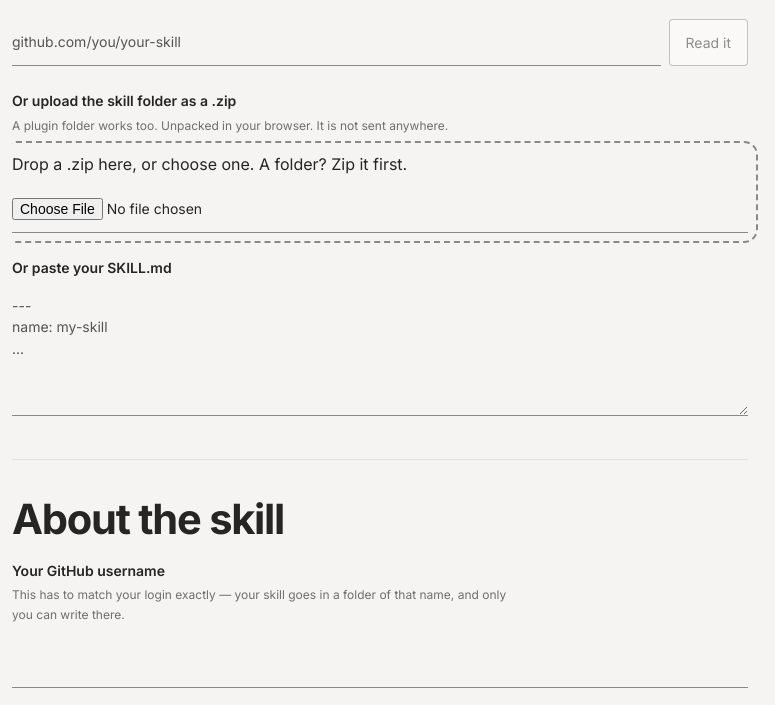
Submit — pasting a skill you already have › says what is wrong rather than silently ignoring it
The width and height of the screenshot is (775, 705).
(page scrolled)
Click the text box labelled "Or paste your SKILL.md".
click(380, 349)  # box [12,282,748,416]
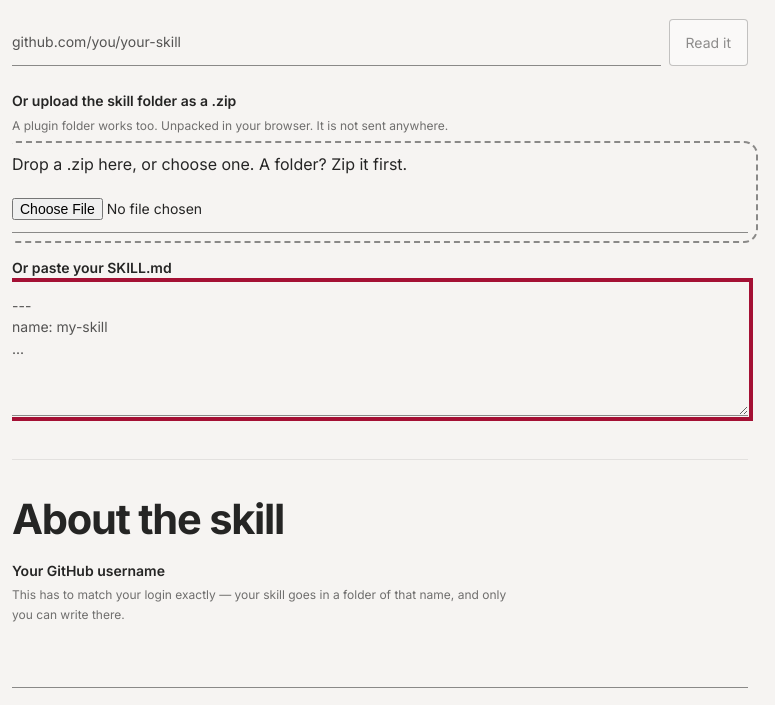
Type keys "# no frontmatter here"
(page scrolled)
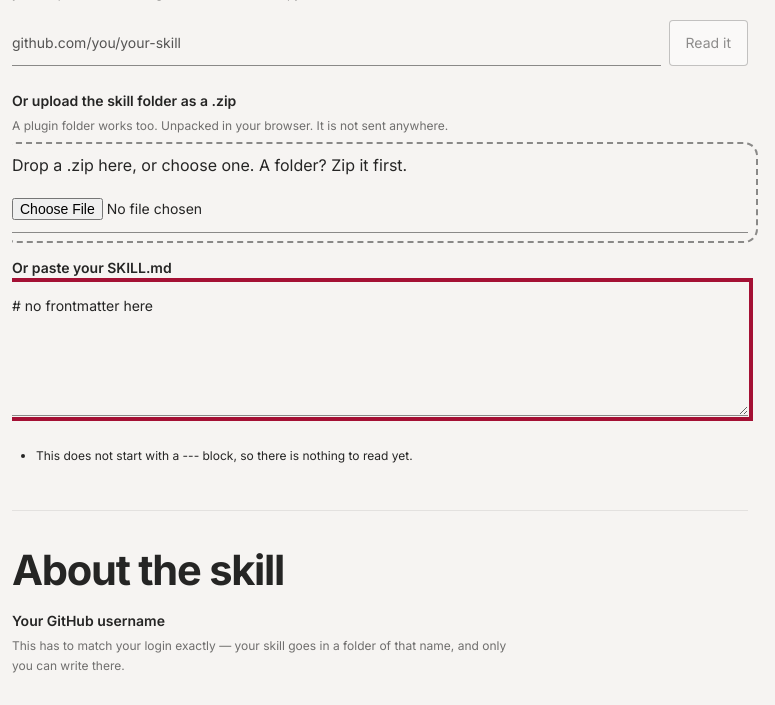
expect the list with test id "parse-notes" shows "---": met, box [36,448,413,463]
